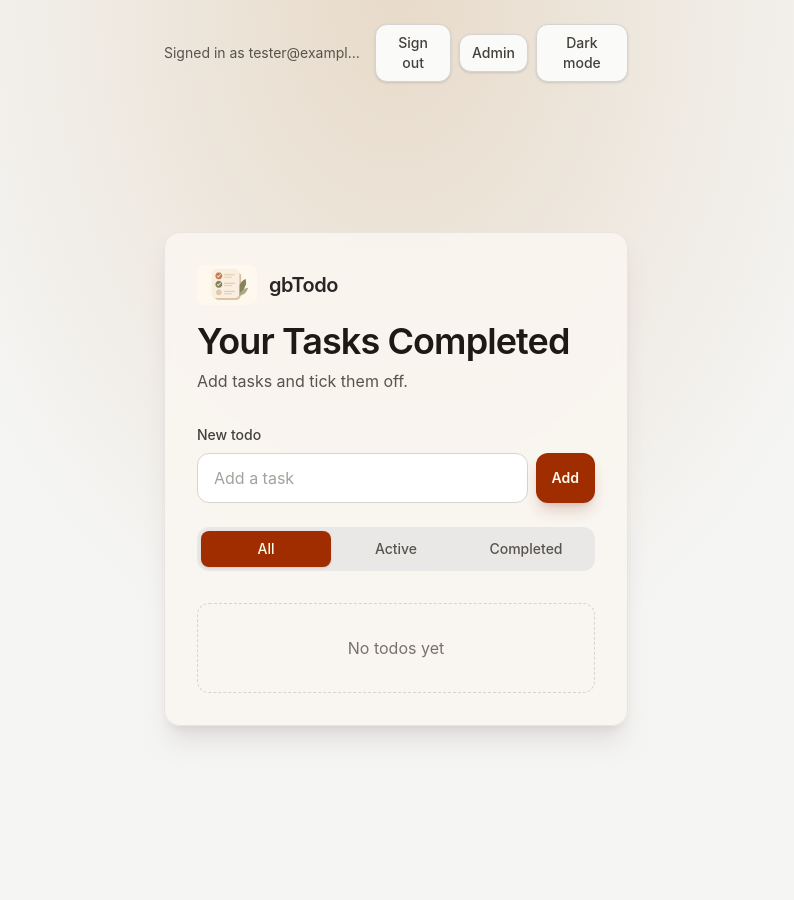
Test: admin panel › lets an admin approve a pending profile
Expected: the field labelled "New todo" is shown, 197,453 -> 528,503
Click the button "Admin".
click(493, 53)  # box 459,34 -> 528,72
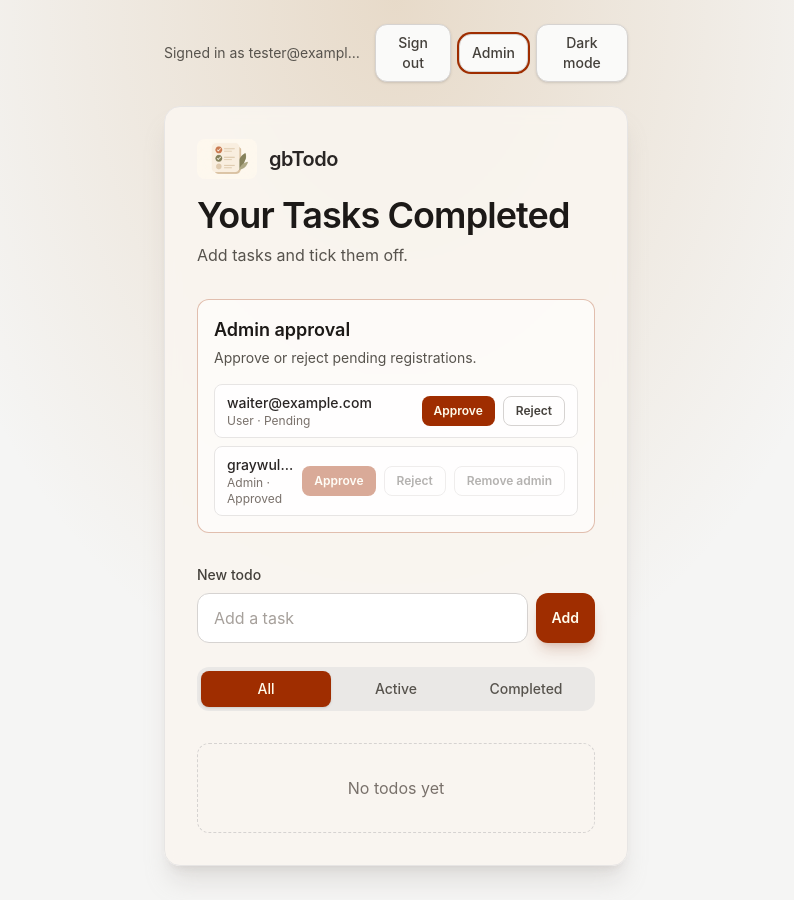
Result: the element with test id "admin-panel" is shown at 197,299 -> 595,533
Result: the text "waiter@example.com" is shown at 227,394 -> 372,411
Click the button "Approve" next to "waiter@example.com".
click(458, 411)  # box 422,396 -> 495,426
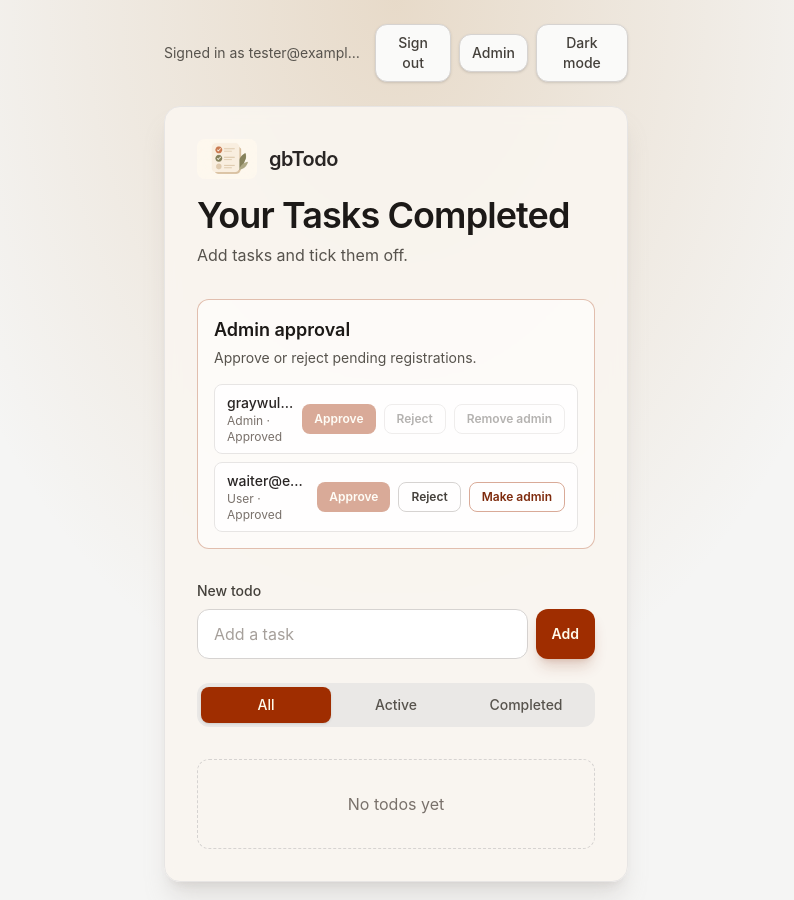
Result: the text "user · approved" is shown at 227,491 -> 282,522
